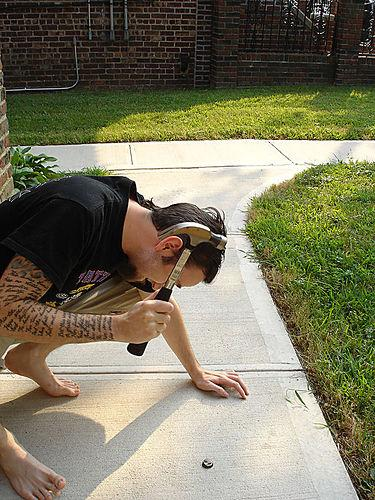hammer: (124, 219, 229, 357)
